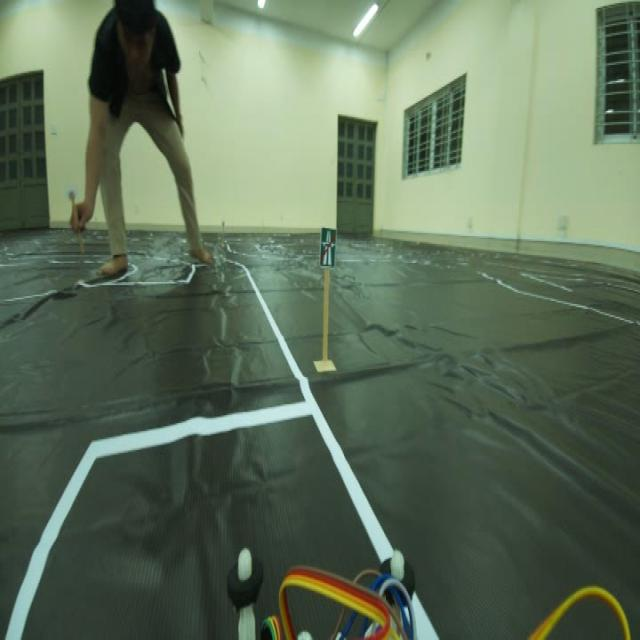highway_exit: (316, 220, 341, 279)
